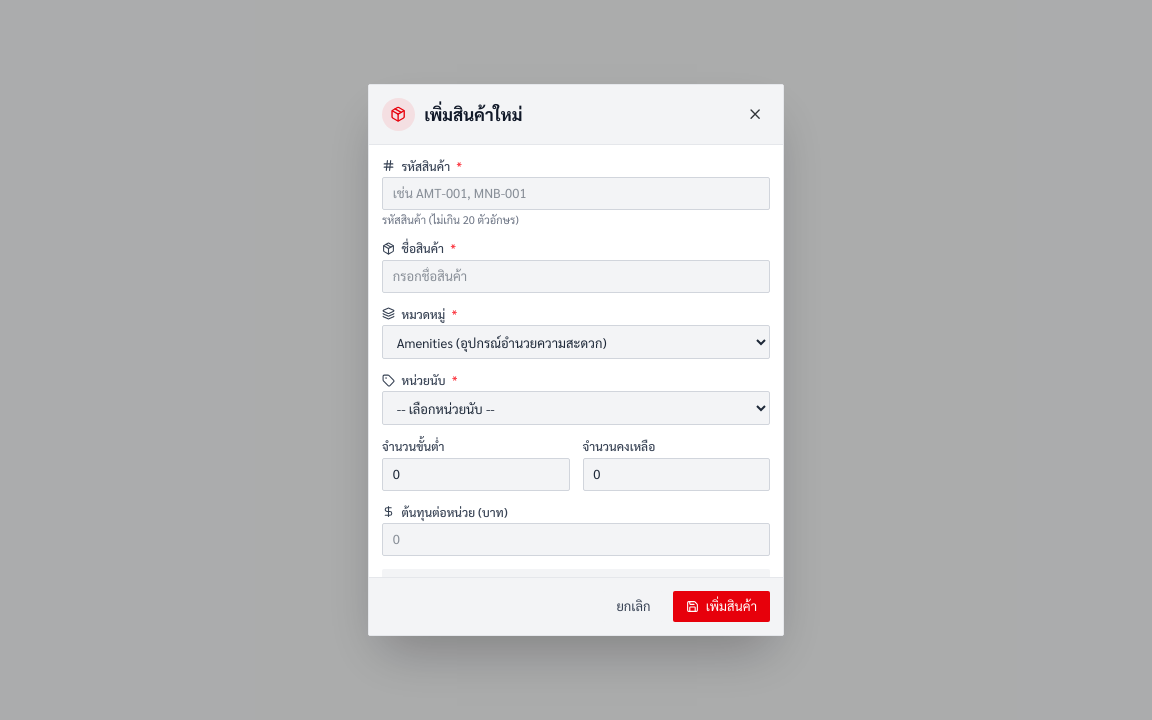
Test: InventoryItemForm Component › Form Validation › shows error when unit is not selected
Type "TEST-001" into the field with placeholder "เช่น AMT-001, MNB-001" at (576, 194), box [382,177,770,210]
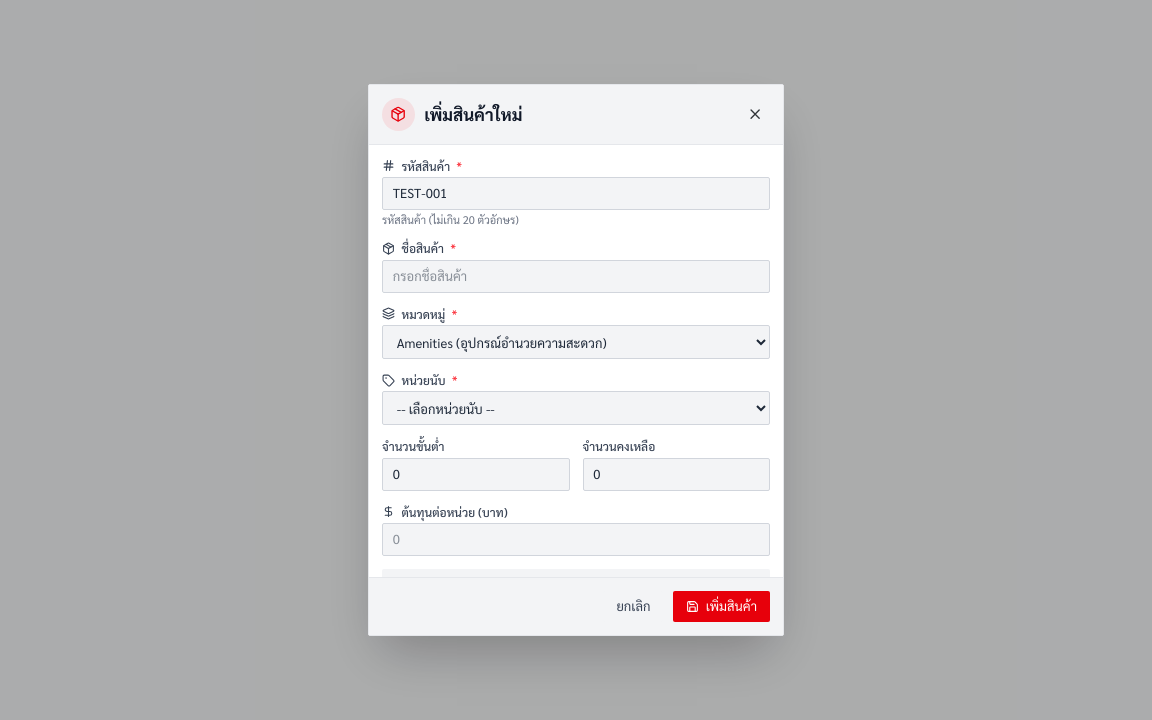
Type "Test Item" into the field with placeholder "กรอกชื่อสินค้า" at (576, 276), box [382,260,770,293]
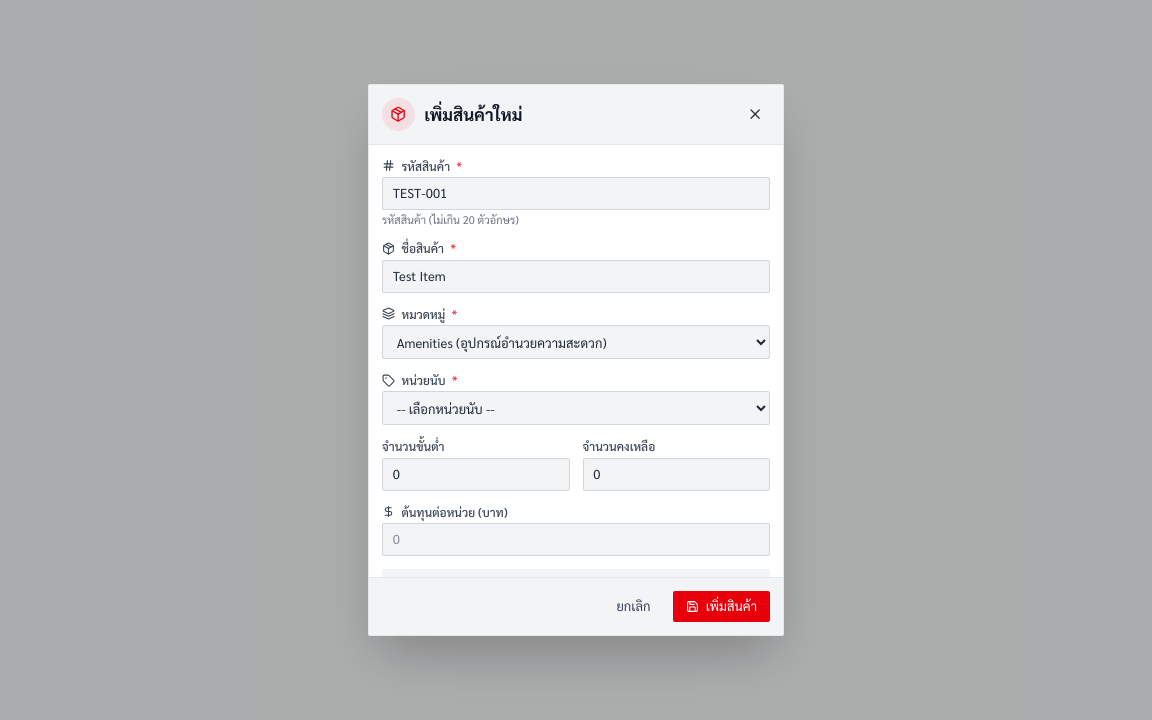
# Clear unit selection
Select "-- เลือกหน่วยนับ --" in the dropdown named "unit" below "หน่วยนับ" at (576, 408), box [382,391,770,425]
Submit the form, box [369,145,783,635]
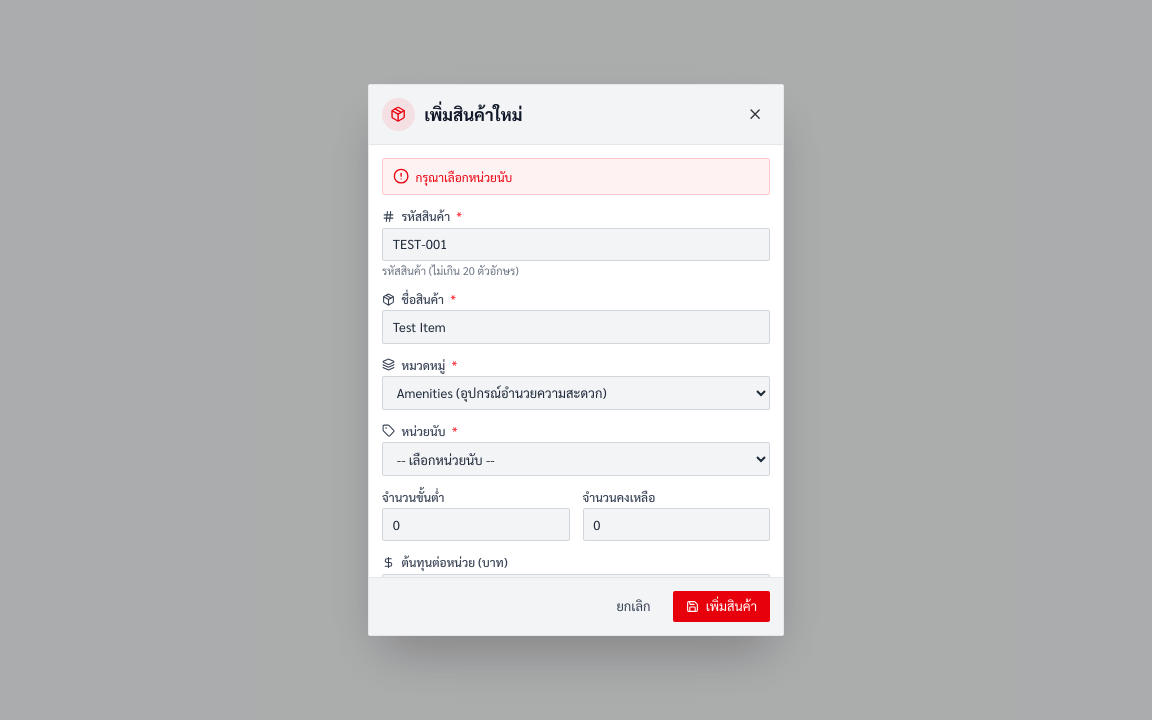
Check: the text "กรุณาเลือกหน่วยนับ" is shown, box [416,168,512,184]
